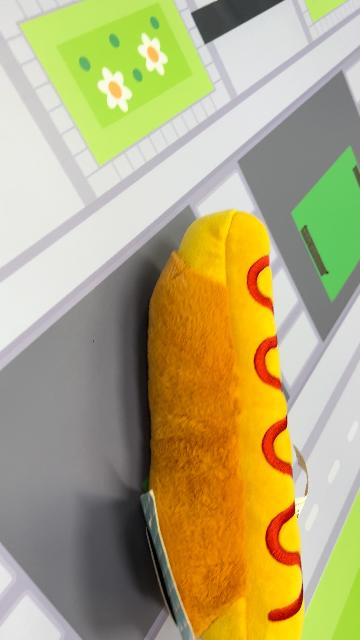hotdog: (143, 207, 307, 638)
